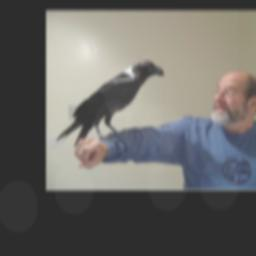Crow: (52, 57, 164, 146)
